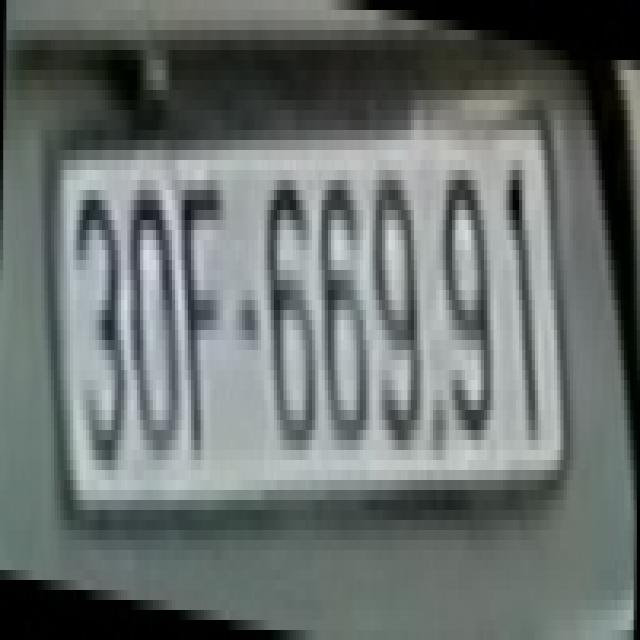0: (130, 180, 178, 460)
1: (503, 150, 551, 450)
3: (73, 190, 124, 470)
6: (264, 170, 316, 450), (318, 170, 369, 450)
9: (439, 160, 494, 440), (372, 160, 423, 450)
F: (182, 180, 226, 460)
